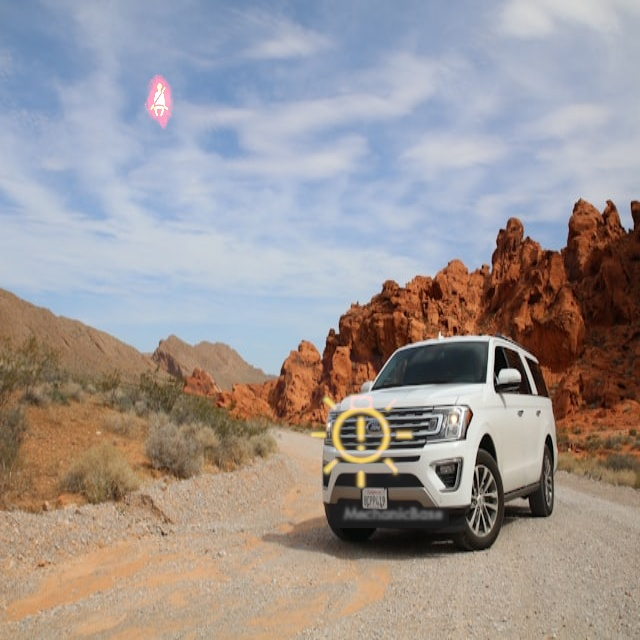symbol: (55, 4, 264, 213), (277, 356, 449, 528)
